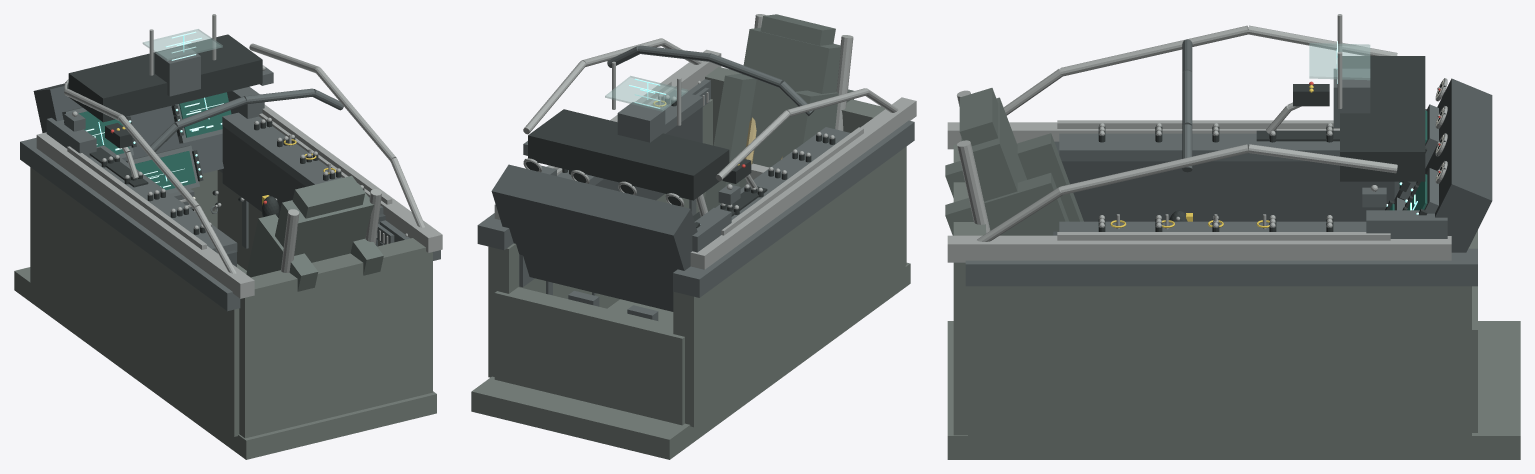
Rendered from f16_inspired_cockpit.glb.
The picture shows the model from 3 angles, left to right: view 1: azimuth 30°, elevation 25°; view 2: azimuth 150°, elevation 25°; view 3: azimuth 270°, elevation 25°; orthographic projection. The views are drawn at different scales.
Parts seen in each view (by area): view 1: Rear bulkhead_003, Left cockpit lower sidewall_004, Cockpit floor pan_001, Glareshield hood_226, Left cockpit upper sill_005, Left canopy rail_006, Main instrument panel housing_056, Seat back cushion_044, Right side console body_277, Right console top surface_278, Left seat side bolster_047, Right canopy rail_025 (+27 smaller); view 2: Left cockpit lower sidewall_004, Main instrument panel housing_056, Front footwell bulkhead_002, Cockpit floor pan_001, Glareshield hood_226, Seat back cushion_044, Left cockpit upper sill_005, Left canopy rail_006, Right cockpit lower sidewall_023, Right seat side bolster_049, Left seat side bolster_047, Rear bulkhead_003 (+17 smaller); view 3: Right cockpit lower sidewall_023, Cockpit floor pan_001, Left side console body_244, Right cockpit upper sill_024, Right canopy rail_025, Glareshield hood_226, Main instrument panel housing_056, Left console top surface_245, Right seat side bolster_049, Rear bulkhead_003, Right console outer rail_309, Seat back cushion_044 (+20 smaller).
Boxes of the visible parts, <box> form: Rear bulkhead_003: <box>239,238,432,438</box>; Left cockpit lower sidewall_004: <box>30,167,239,436</box>; Cockpit floor pan_001: <box>14,264,436,459</box>; Glareshield hood_226: <box>68,34,262,122</box>; Left cockpit upper sill_005: <box>20,137,240,311</box>; Left canopy rail_006: <box>36,132,254,298</box>; Main instrument panel housing_056: <box>33,83,223,173</box>; Seat back cushion_044: <box>275,184,373,262</box>; Right side console body_277: <box>222,126,385,246</box>; Right console top surface_278: <box>222,112,383,214</box>; Left seat side bolster_047: <box>246,214,318,291</box>; Right canopy rail_025: <box>259,104,442,252</box>; Left cockpit lower sidewall_004: <box>673,147,905,427</box>; Main instrument panel housing_056: <box>491,164,697,311</box>; Front footwell bulkhead_002: <box>494,287,684,425</box>; Cockpit floor pan_001: <box>471,262,910,459</box>; Glareshield hood_226: <box>528,109,729,200</box>; Seat back cushion_044: <box>739,27,840,188</box>; Left cockpit upper sill_005: <box>673,120,914,297</box>; Left canopy rail_006: <box>690,97,916,269</box>; Right cockpit lower sidewall_023: <box>488,99,712,377</box>; Right seat side bolster_049: <box>704,73,756,211</box>; Left seat side bolster_047: <box>782,89,853,158</box>; Rear bulkhead_003: <box>705,67,906,265</box>; Right cockpit lower sidewall_023: <box>968,286,1471,439</box>; Cockpit floor pan_001: <box>947,321,1520,459</box>; Left side console body_244: <box>1054,141,1394,221</box>; Right cockpit upper sill_024: <box>965,248,1477,286</box>; Right canopy rail_025: <box>947,235,1451,262</box>; Glareshield hood_226: <box>1340,56,1425,181</box>; Main instrument panel housing_056: <box>1394,78,1492,252</box>; Left console top surface_245: <box>1059,133,1339,161</box>; Right seat side bolster_049: <box>945,173,1069,235</box>; Rear bulkhead_003: <box>953,144,985,435</box>; Right console outer rail_309: <box>1057,232,1390,240</box>; Seat back cushion_044: <box>961,97,1026,201</box>.
Size of the model in its own units: 1.5 by 2 by 2.83.
